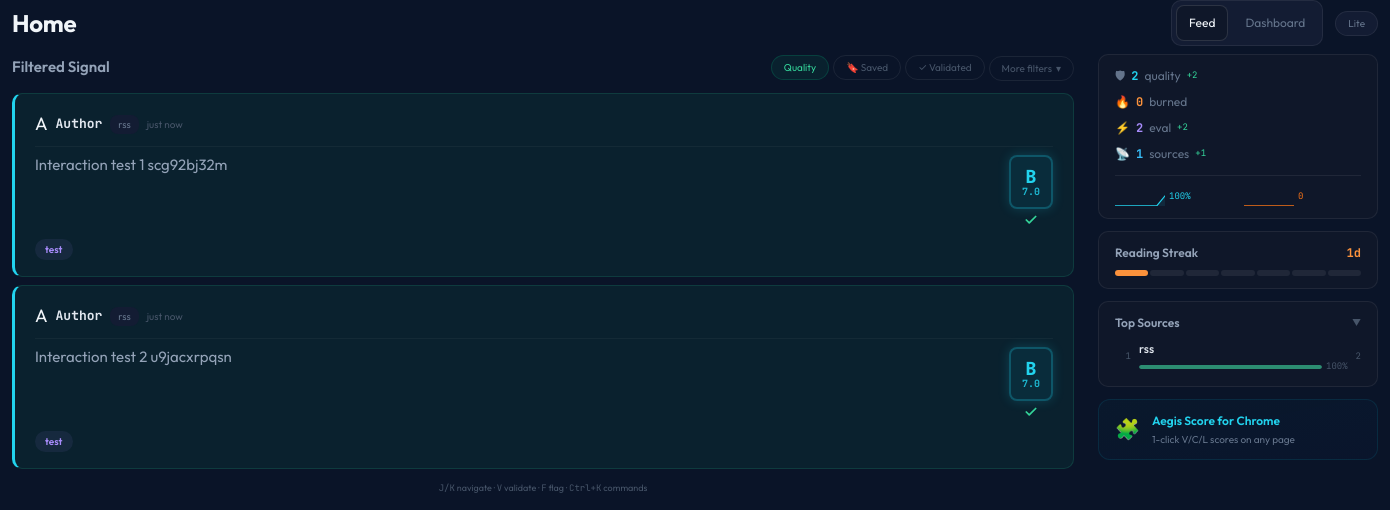
Scenario: DashboardTab — Filter count › shows count when active filter is applied
The width and height of the screenshot is (1390, 510).
Click the button with test id "aegis-filter-validated": x=945, y=68 [905,55,985,80]
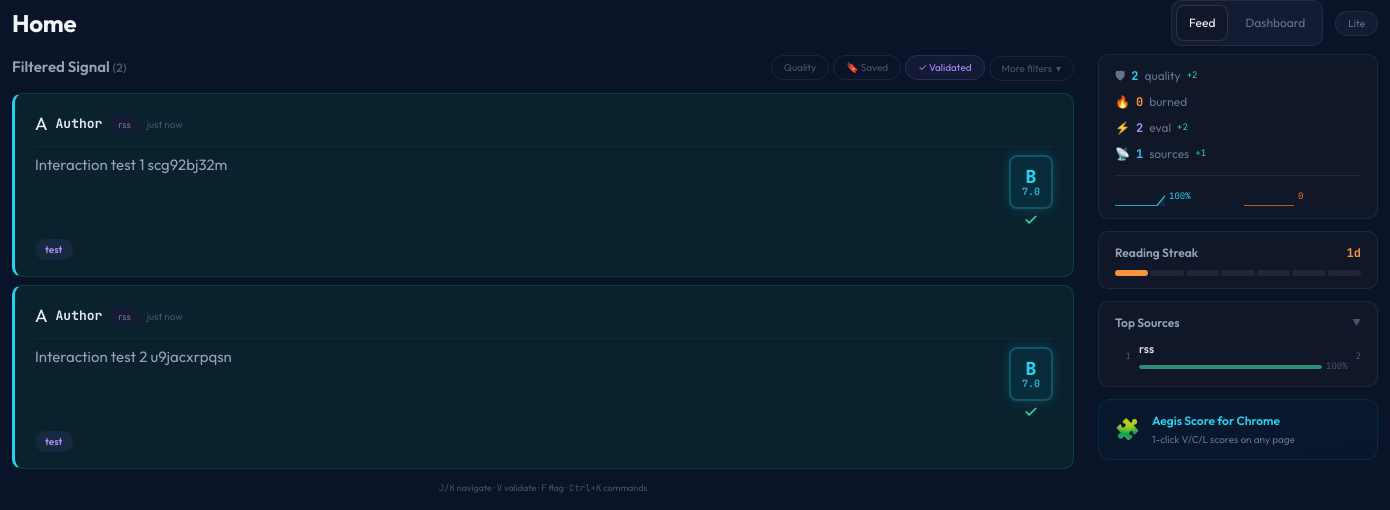
Expected: the text "(2)" is shown, [113,60,127,75]
Expected: the text with test id "aegis-filter-count" shows "2", [116,60,123,75]
